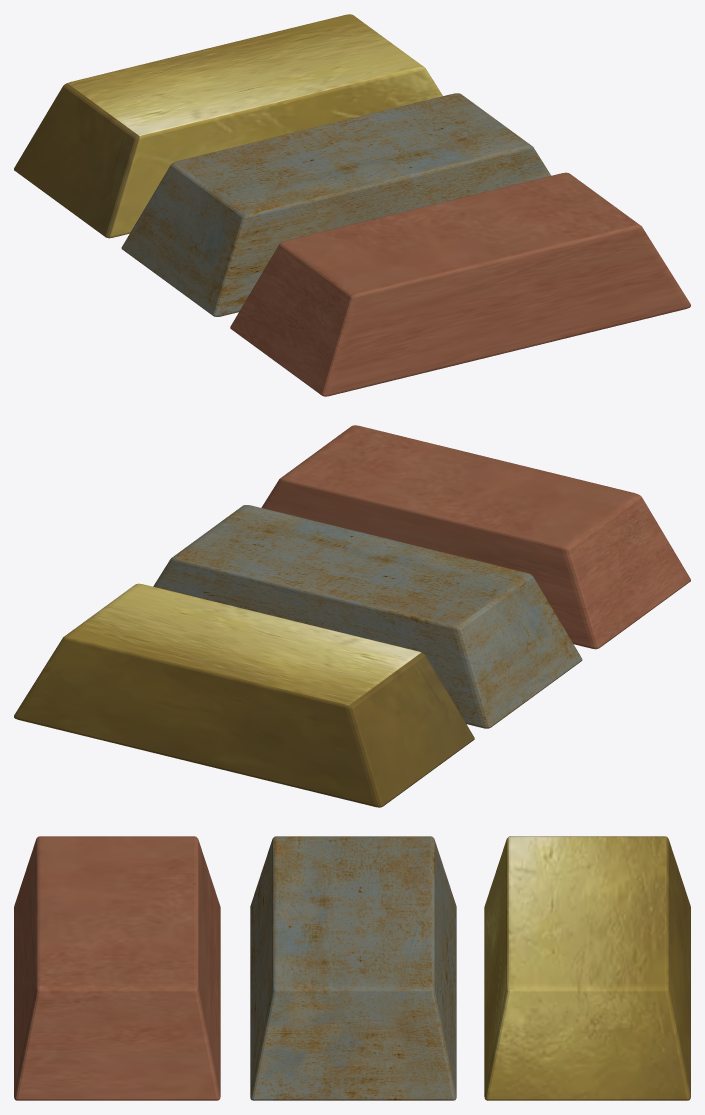
The model's file is ingots (c - BasicallyBackstage).fbx.
The picture shows the model from 3 angles, top to bottom: view 1: azimuth 30°, elevation 25°; view 2: azimuth 150°, elevation 25°; view 3: azimuth 270°, elevation 25°; orthographic projection. The views are drawn at different scales.
Parts seen in each view (by area): view 1: ingot.002, ingot, ingot.001; view 2: ingot.001, ingot.002, ingot; view 3: ingot, ingot.001, ingot.002.
Boxes of the visible parts, x1,y1,x2,y2 form: ingot.002: (230,172,690,396); ingot: (121,93,551,316); ingot.001: (14,14,442,238); ingot.001: (14,583,474,807); ingot.002: (261,425,690,649); ingot: (153,505,582,728); ingot: (250,836,456,1100); ingot.001: (484,836,690,1100); ingot.002: (14,836,220,1100).
Size of the model in its own units: 297 by 65.85 by 434.
Materials: 3 (3 with a texture image).
